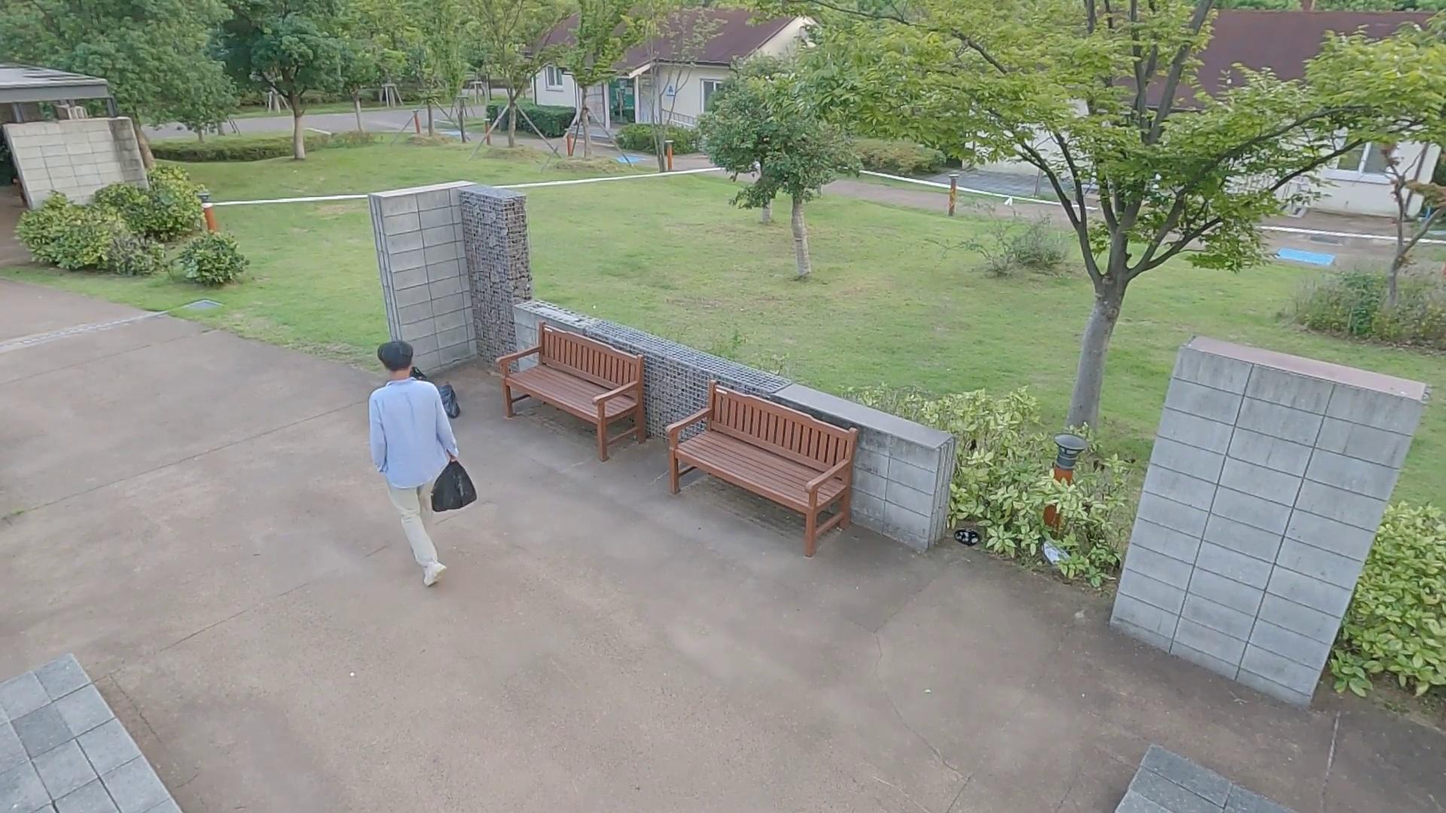person: (369, 339, 468, 586)
trash: (431, 456, 477, 510), (435, 381, 461, 417)
